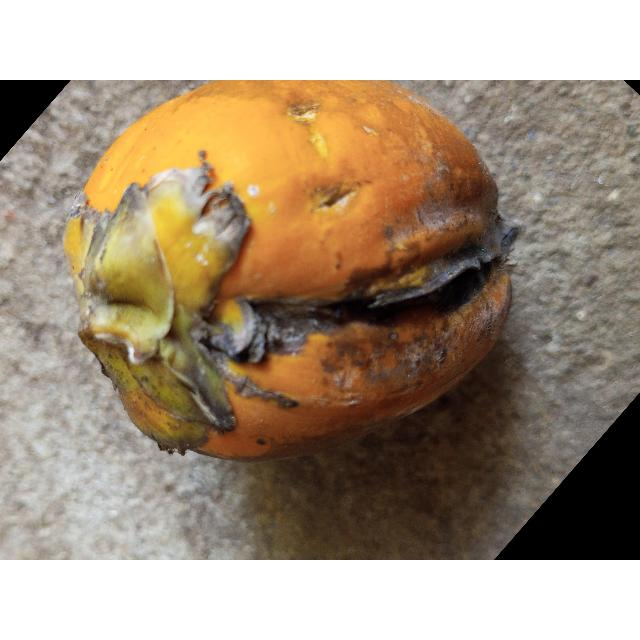damaged: (64, 80, 518, 458)
